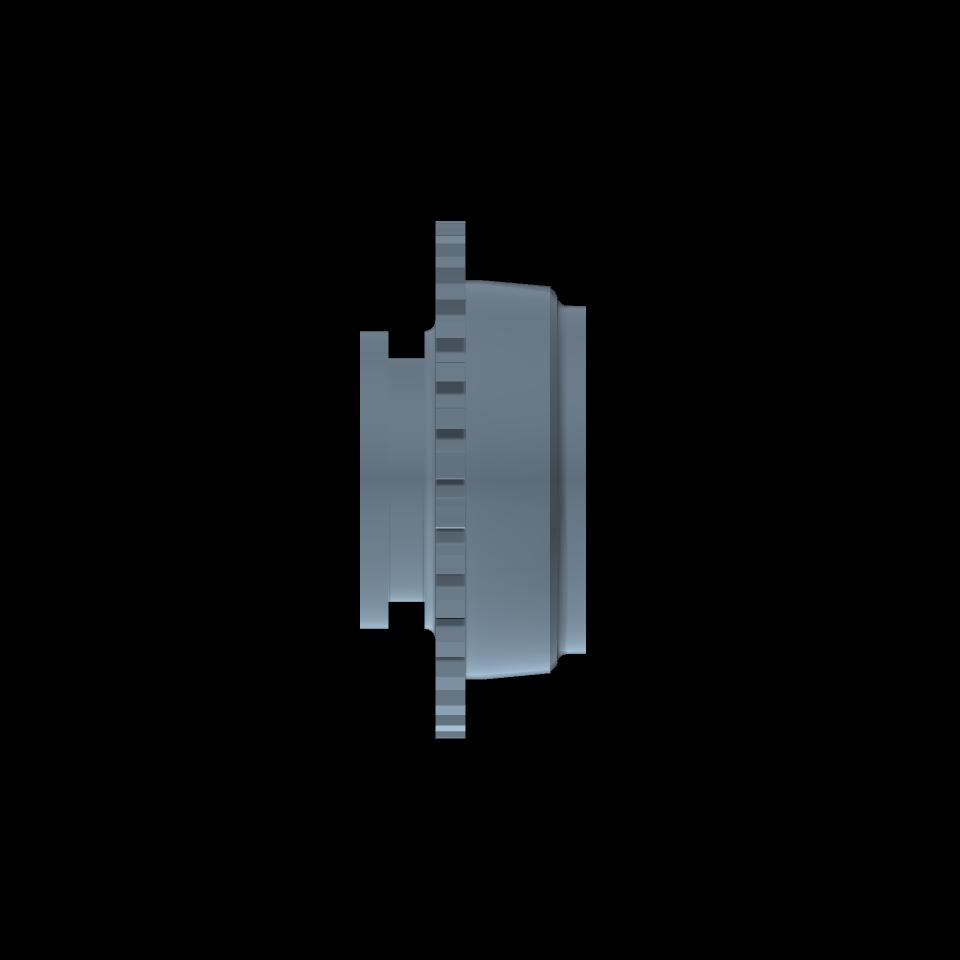Straight: (435, 221, 465, 738)
